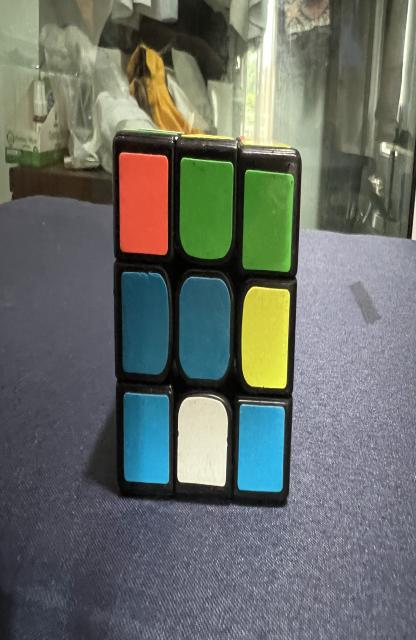Blue: (179, 277, 231, 380), (121, 272, 169, 375), (237, 403, 284, 492), (124, 393, 169, 483)
Green: (180, 157, 233, 260), (242, 170, 293, 272)
Orange: (119, 152, 168, 255)
White: (177, 397, 228, 487)
Yellow: (241, 287, 290, 388)
